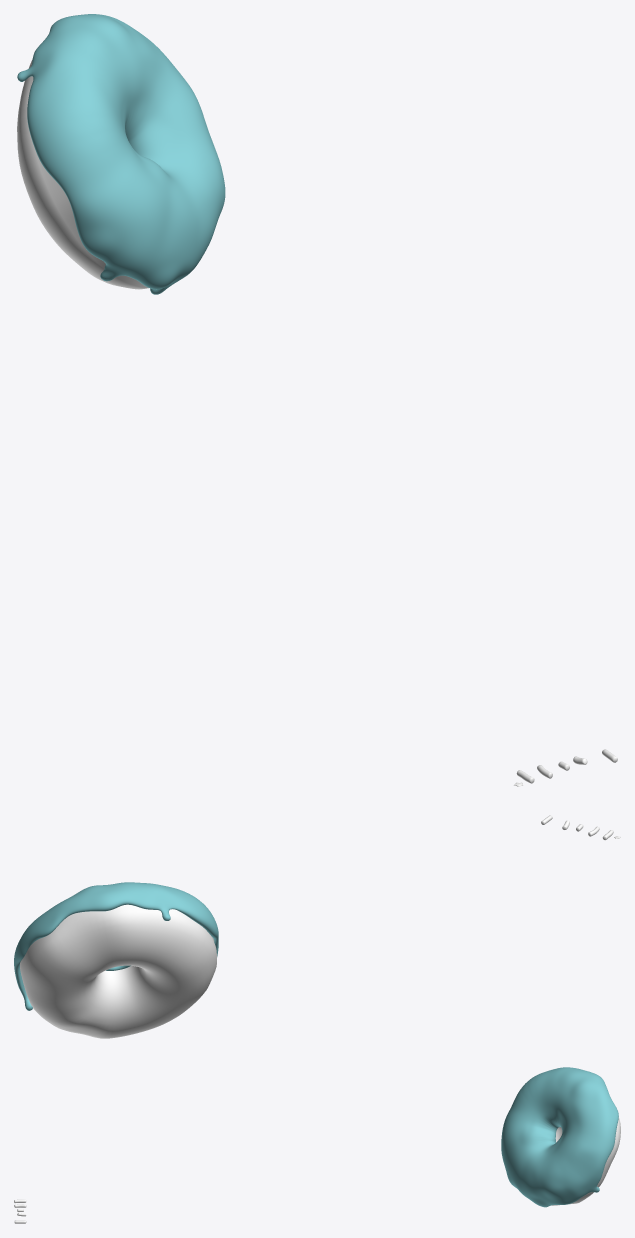
The model's file is donut.glb.
The picture shows the model from 3 angles, top to bottom: view 1: azimuth 30°, elevation 25°; view 2: azimuth 150°, elevation 25°; view 3: azimuth 270°, elevation 25°; orthographic projection. The views are drawn at different scales.
Parts seen in each view (by area): view 1: Icing_3, Donut_4; view 2: Donut_4, Icing_3; view 3: Icing_3, Donut_4.
Boxes of the visible parts, x1,y1,x2,y2 form: Icing_3: (17,14,225,294); Donut_4: (17,59,148,289); Donut_4: (20,904,216,1038); Icing_3: (14,882,218,1010); Icing_3: (501,1067,618,1207); Donut_4: (551,1117,620,1205).
Bounding box in the file's own units: 0.1018 × 0.1203 × 0.4191.
